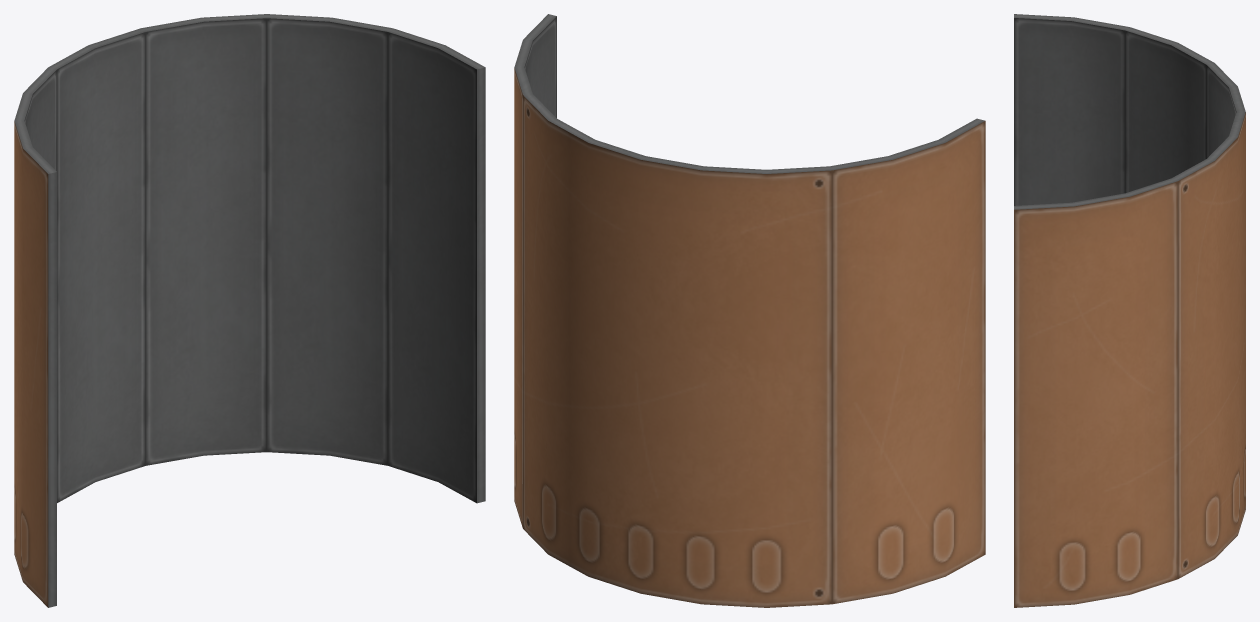
File: TLV_2_Engine_1_Fairing.obj
3 renders of one model, left to right at view 1: azimuth 30°, elevation 25°; view 2: azimuth 150°, elevation 25°; view 3: azimuth 270°, elevation 25°, orthographic. The views are drawn at different scales.
Parts seen in each view (by area): view 1: TLV_2_Engine_1_Fairing; view 2: TLV_2_Engine_1_Fairing; view 3: TLV_2_Engine_1_Fairing.
Boxes of the visible parts, left/top/right/bottom form: TLV_2_Engine_1_Fairing: left=14, top=14, right=485, bottom=607; TLV_2_Engine_1_Fairing: left=514, top=14, right=985, bottom=607; TLV_2_Engine_1_Fairing: left=1014, top=14, right=1245, bottom=607.
Size of the model in its own units: 1.25 by 1.18 by 0.625.
